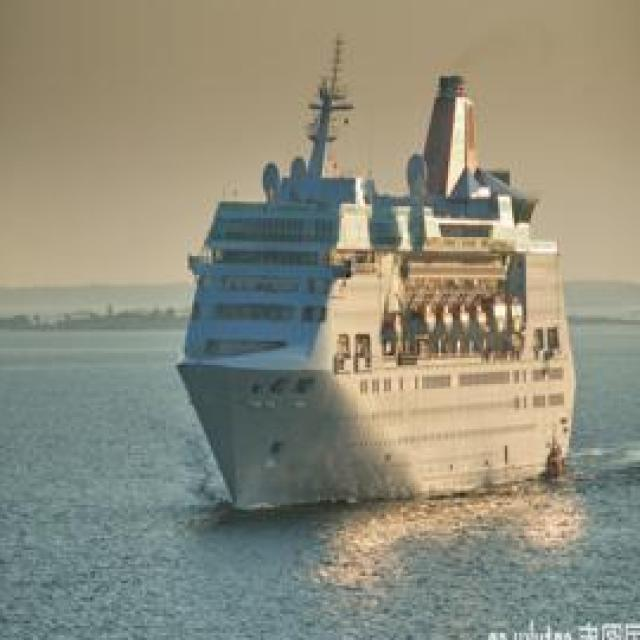navalvessels: (181, 40, 574, 519)
